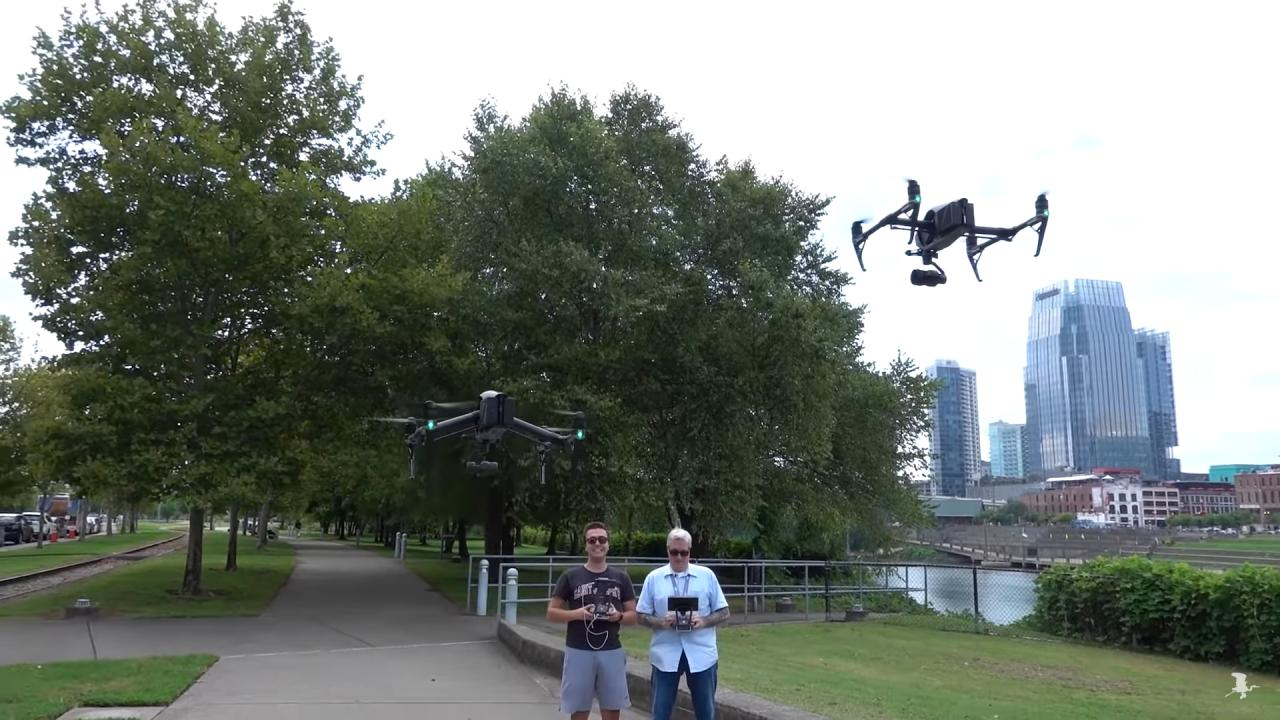Drone: (350, 365, 620, 510), (833, 160, 1068, 300)
